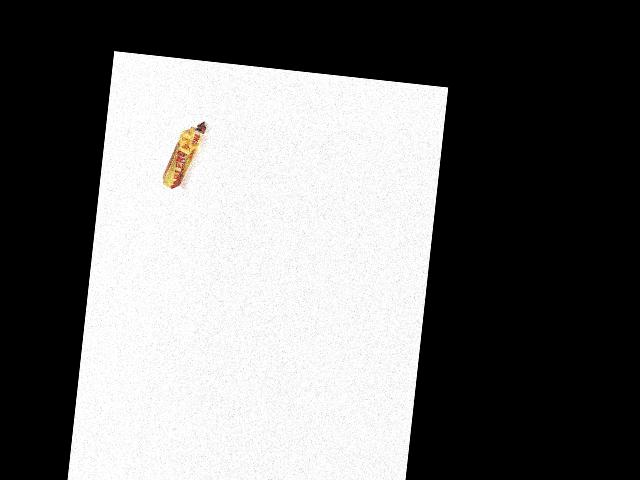chocolate: (160, 117, 209, 191)
